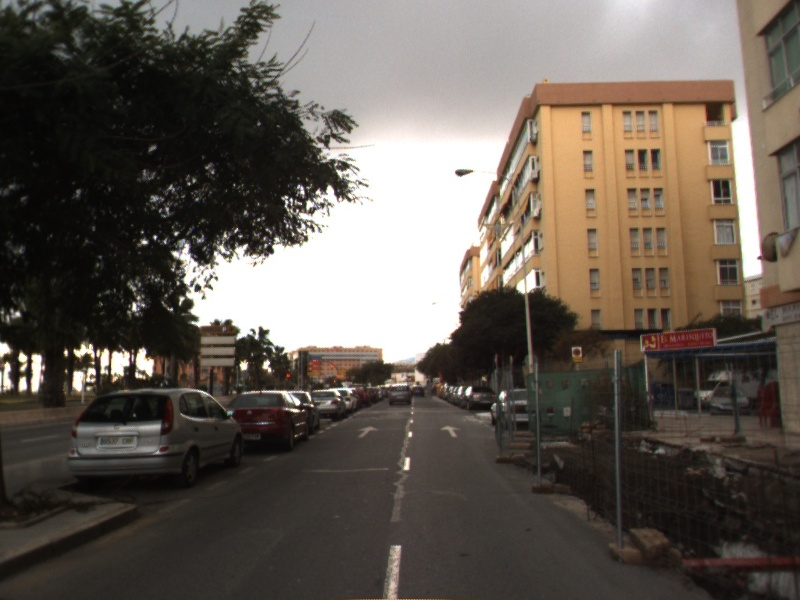STRAIGHT: (355, 424, 381, 438), (439, 424, 462, 438)
